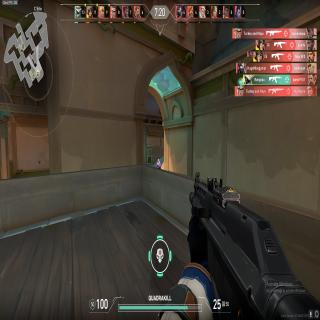ENEMY-BODY: (156, 158, 161, 169)
ENEMY-HEAD: (158, 159, 159, 163)
